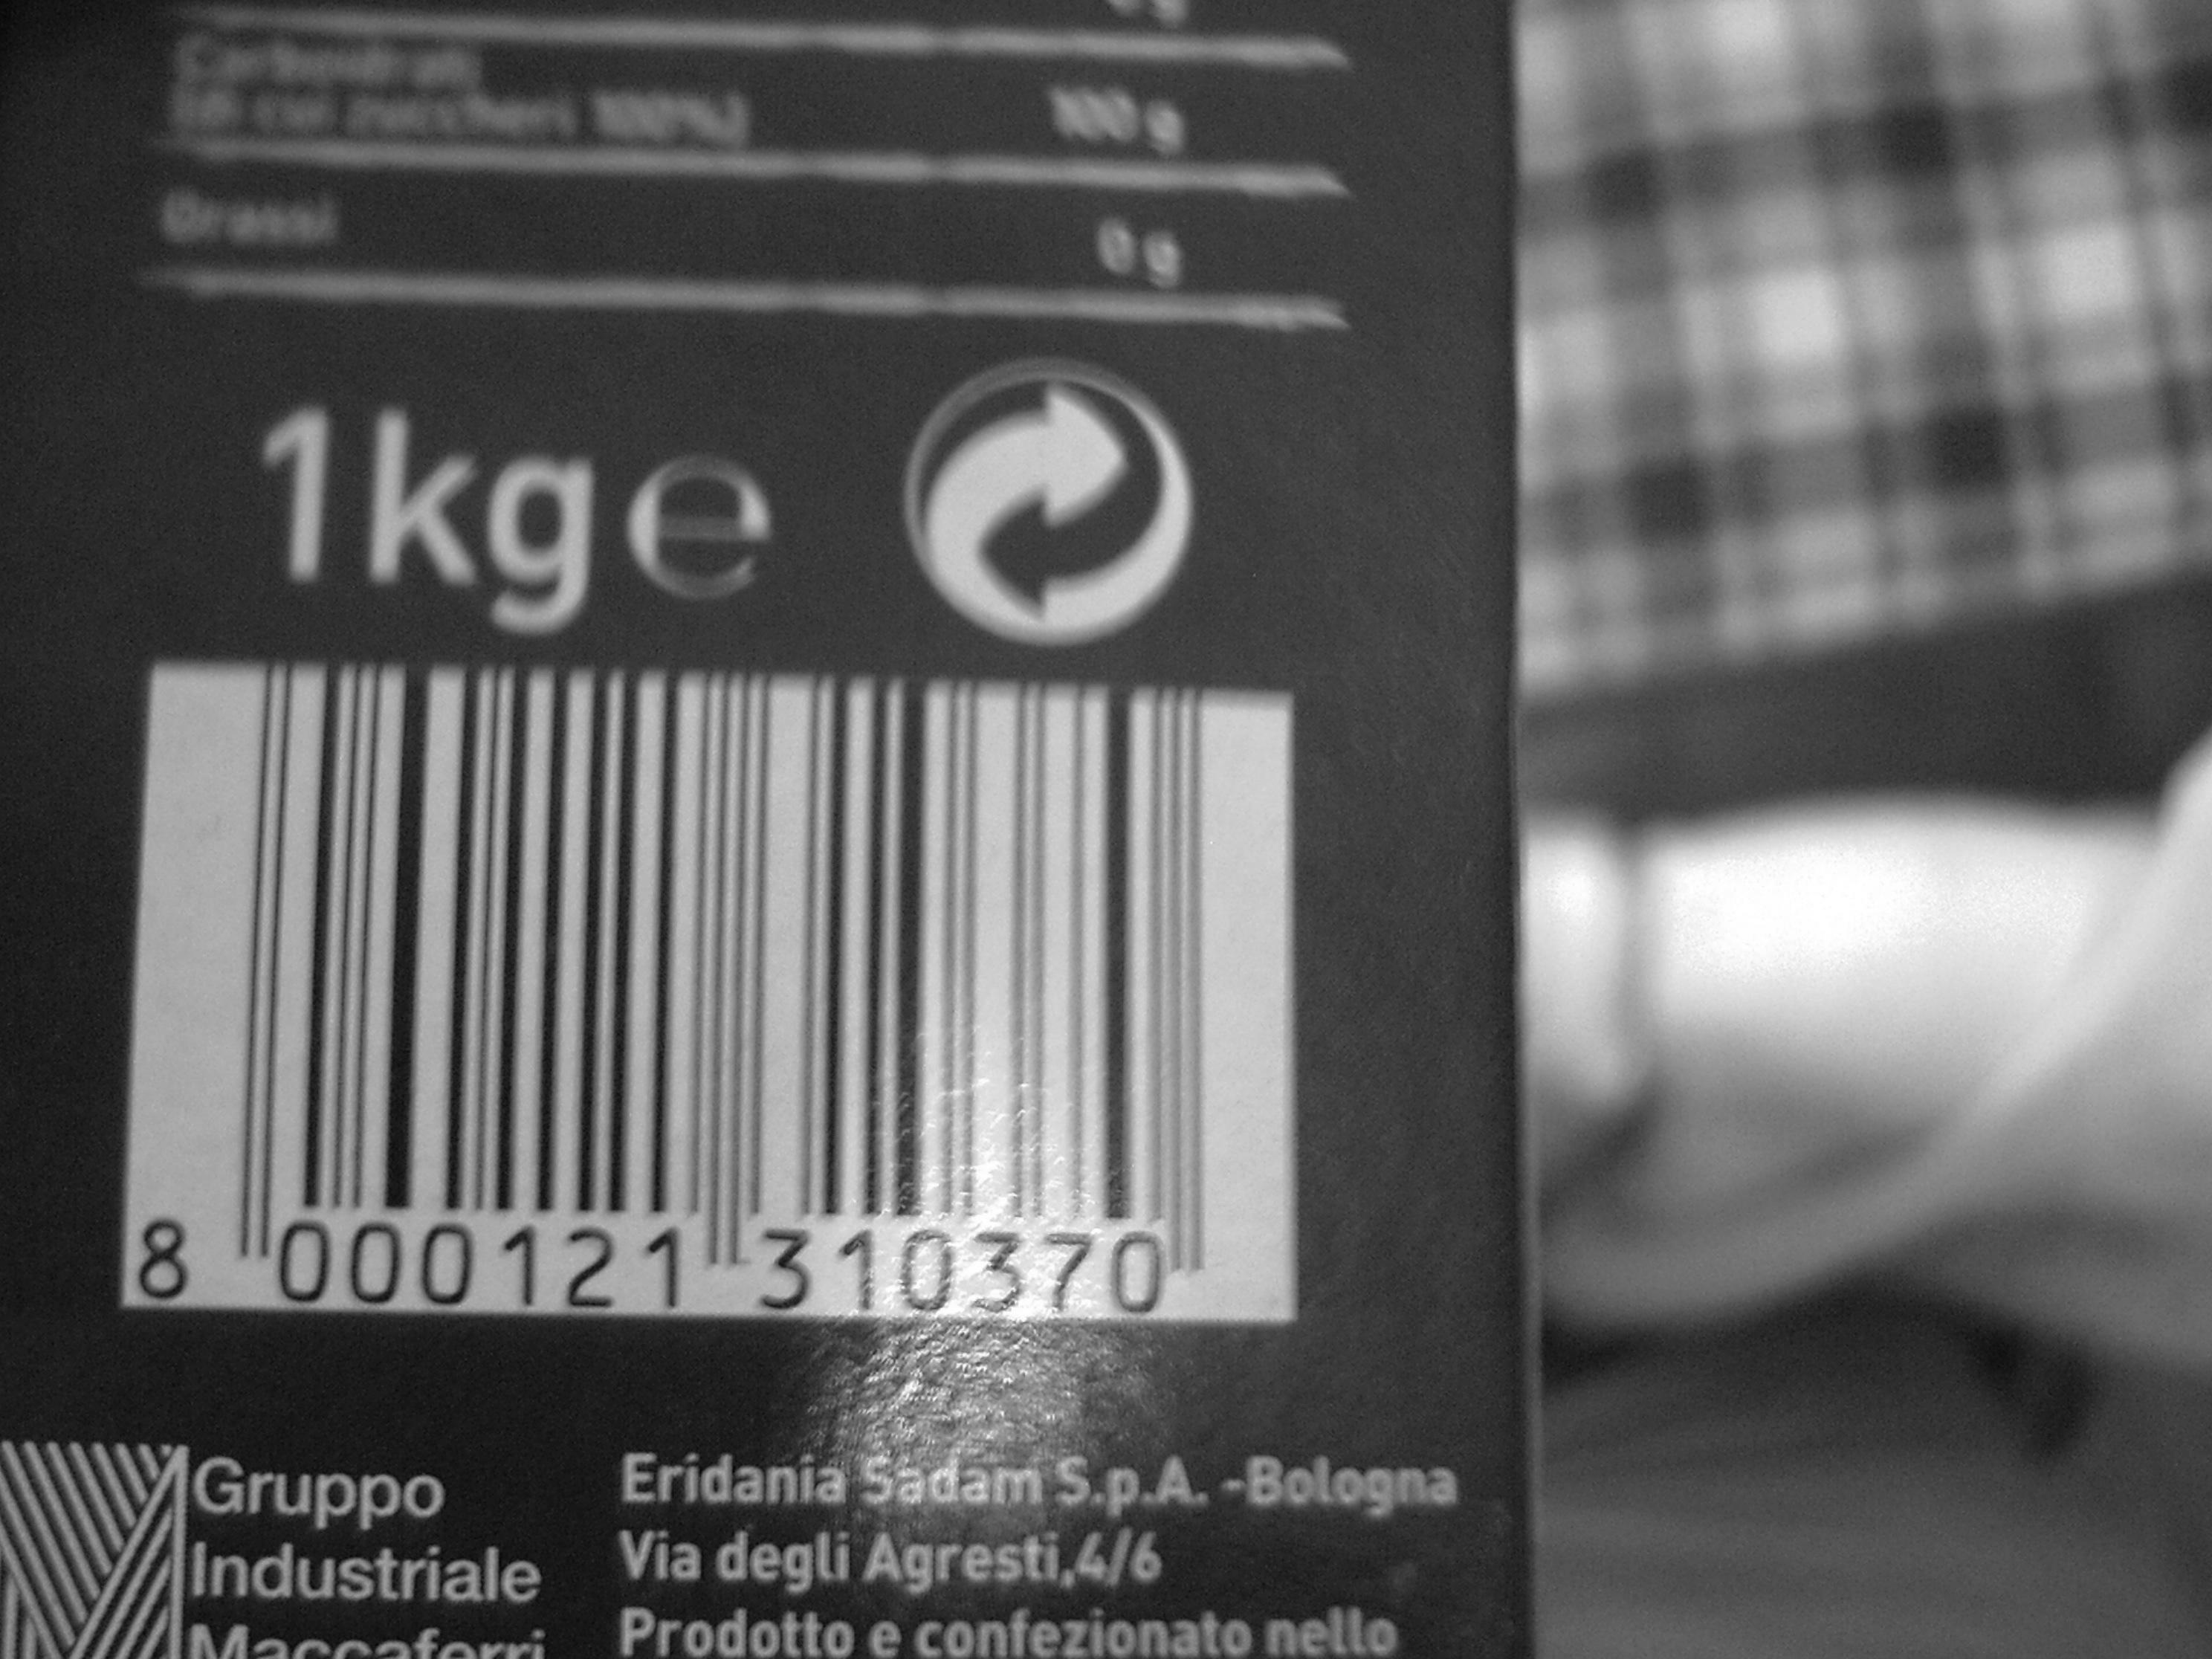Barcode: (173, 684, 1244, 1276)
